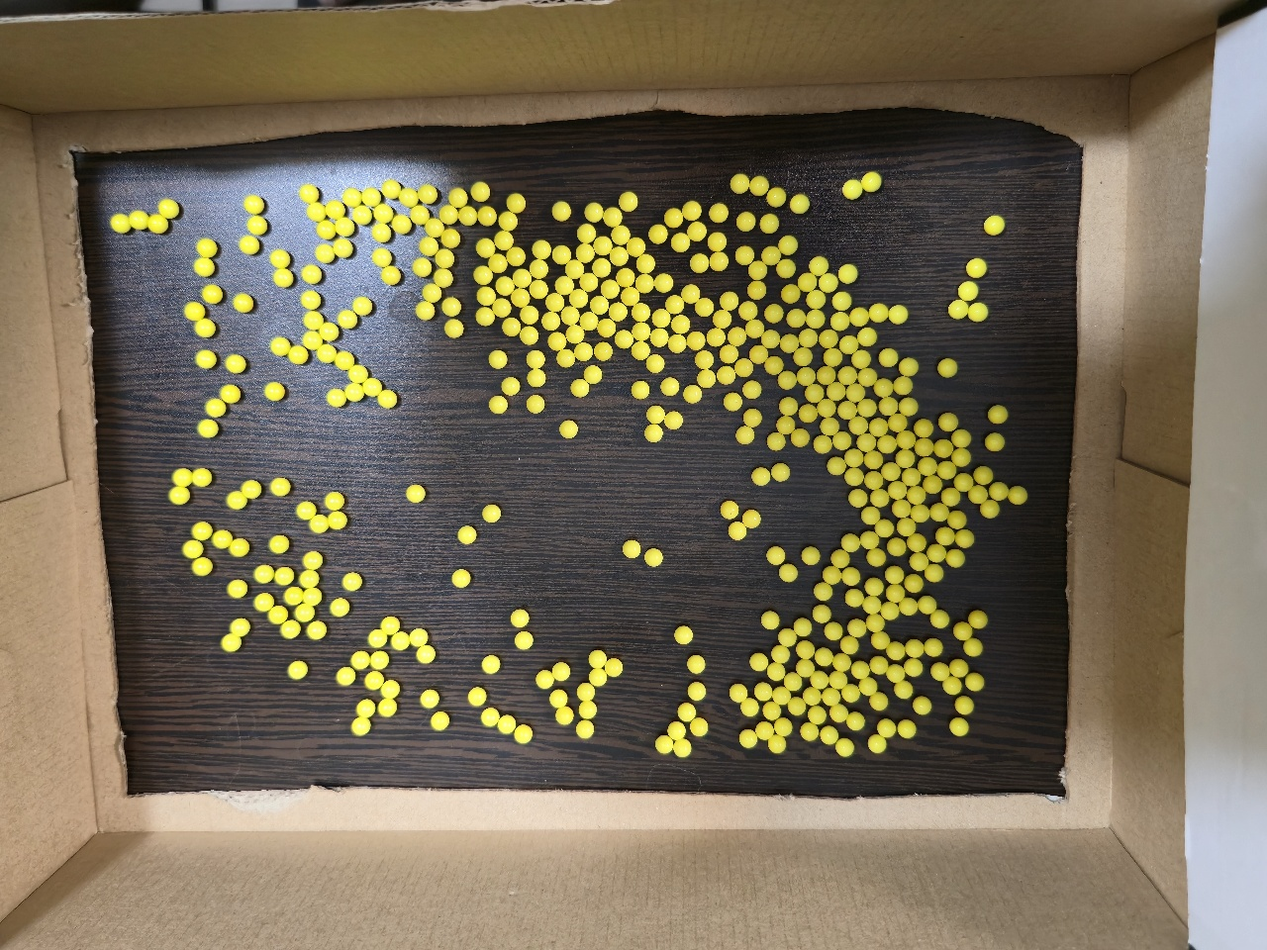yellow_bead: (162, 202, 175, 215), (226, 635, 238, 648), (384, 684, 396, 696), (308, 315, 320, 327), (962, 285, 974, 297), (251, 220, 263, 232), (248, 199, 260, 211), (865, 176, 877, 188), (307, 333, 318, 346), (200, 242, 213, 253), (988, 220, 1001, 231), (378, 208, 389, 221), (292, 665, 304, 676), (354, 655, 366, 666), (234, 622, 245, 634), (299, 607, 311, 618), (232, 584, 244, 595), (257, 569, 269, 580), (231, 495, 243, 506), (210, 403, 222, 414), (381, 394, 393, 405), (268, 386, 280, 397), (230, 358, 242, 369), (321, 348, 333, 359), (341, 314, 353, 325), (952, 304, 964, 315), (305, 295, 317, 306), (427, 287, 438, 299), (306, 269, 318, 280), (971, 262, 982, 274), (198, 262, 210, 273), (417, 261, 428, 273), (274, 253, 286, 264), (423, 241, 435, 252), (396, 219, 408, 230), (414, 210, 426, 221), (356, 210, 368, 221), (330, 204, 341, 216), (452, 192, 463, 204), (304, 188, 315, 200), (186, 544, 199, 554), (216, 534, 229, 544), (173, 491, 186, 501), (273, 482, 286, 492), (382, 702, 393, 713), (425, 694, 436, 705), (421, 649, 432, 660), (372, 633, 383, 644), (307, 592, 318, 603), (279, 571, 290, 582), (367, 382, 378, 393), (842, 370, 853, 381), (293, 349, 304, 360), (275, 341, 286, 352), (843, 339, 854, 350), (834, 316, 845, 327), (893, 309, 904, 320), (873, 308, 884, 319), (973, 307, 984, 318), (188, 306, 199, 317), (357, 301, 368, 312), (594, 300, 605, 311), (836, 296, 847, 307), (811, 294, 822, 305), (481, 291, 492, 302), (559, 280, 570, 291), (517, 273, 528, 284), (478, 270, 489, 281), (385, 270, 396, 281), (569, 264, 580, 275), (814, 261, 825, 272), (439, 253, 450, 264), (376, 252, 387, 263), (511, 251, 522, 262), (556, 249, 567, 260), (320, 248, 331, 259), (536, 244, 547, 255), (480, 242, 491, 253), (783, 239, 794, 250), (244, 239, 255, 250), (581, 228, 592, 239), (376, 227, 387, 238), (692, 226, 703, 237), (115, 218, 126, 229), (503, 216, 514, 227), (556, 206, 567, 217), (403, 192, 414, 203), (366, 192, 377, 203), (346, 192, 357, 203), (423, 189, 434, 200), (475, 186, 486, 197), (847, 184, 858, 195), (386, 184, 397, 195), (356, 720, 366, 732), (311, 625, 323, 635), (284, 624, 296, 634), (258, 598, 270, 608), (303, 574, 315, 584), (196, 562, 208, 572), (273, 539, 285, 549), (300, 506, 312, 516), (245, 485, 257, 495), (196, 473, 208, 483), (352, 369, 364, 379), (200, 354, 212, 364), (199, 323, 211, 333), (238, 297, 248, 309), (277, 273, 289, 283), (338, 242, 348, 254), (443, 209, 453, 221), (589, 207, 599, 219), (687, 205, 697, 217), (840, 742, 850, 753), (519, 729, 529, 740), (580, 724, 590, 735), (502, 719, 512, 730), (435, 715, 445, 726), (485, 712, 495, 723), (360, 704, 371, 714), (583, 703, 593, 714), (472, 692, 482, 703), (581, 688, 591, 699), (369, 676, 380, 686), (341, 671, 351, 682), (375, 655, 385, 666), (395, 635, 405, 646), (414, 632, 424, 643), (385, 620, 396, 630), (272, 610, 283, 620), (334, 603, 345, 613), (914, 557, 925, 567), (234, 543, 245, 553), (864, 535, 875, 545), (879, 523, 890, 533), (313, 519, 324, 529), (410, 489, 421, 499), (881, 439, 892, 449), (836, 435, 847, 445), (903, 402, 914, 412), (493, 400, 504, 410), (862, 372, 873, 382), (340, 355, 350, 366), (493, 354, 503, 365), (884, 352, 894, 363), (598, 346, 609, 356), (579, 346, 589, 357), (635, 345, 646, 355), (324, 327, 335, 337), (584, 316, 594, 327), (546, 316, 556, 327), (811, 314, 821, 325), (718, 314, 728, 325), (792, 313, 802, 324), (656, 313, 666, 324), (854, 312, 864, 323), (480, 312, 491, 322), (525, 310, 535, 321), (636, 307, 646, 318), (613, 307, 624, 317), (420, 306, 431, 316), (550, 297, 560, 308), (574, 293, 584, 304), (606, 284, 616, 295), (534, 284, 544, 295), (823, 278, 833, 289), (658, 278, 669, 288), (639, 278, 649, 289), (803, 277, 813, 288), (584, 277, 594, 288), (843, 268, 853, 279), (753, 265, 763, 276), (597, 262, 607, 273), (641, 258, 651, 269), (493, 258, 503, 269), (714, 256, 725, 266), (614, 251, 625, 261), (740, 250, 750, 261), (580, 247, 590, 258), (598, 240, 608, 251), (446, 233, 456, 244), (321, 225, 331, 236), (429, 223, 439, 234), (340, 222, 350, 233), (765, 219, 775, 230), (741, 217, 751, 228), (134, 215, 144, 226), (608, 212, 618, 223), (462, 211, 472, 222), (311, 207, 321, 218), (795, 199, 805, 210), (511, 198, 522, 208), (624, 196, 634, 207), (772, 192, 782, 203), (754, 180, 764, 191), (735, 178, 745, 189), (307, 556, 319, 565), (196, 527, 208, 536), (202, 424, 214, 433), (659, 740, 669, 750), (760, 726, 770, 736), (672, 726, 682, 736), (902, 724, 912, 734), (882, 723, 892, 733), (954, 722, 964, 732), (778, 722, 788, 732), (777, 691, 787, 701), (899, 685, 909, 695), (863, 682, 873, 692), (891, 669, 901, 679), (935, 667, 945, 677), (556, 667, 566, 677), (609, 663, 619, 673), (486, 660, 496, 670), (593, 654, 603, 664), (776, 649, 786, 659), (519, 635, 529, 645), (679, 630, 689, 640), (867, 601, 877, 611), (288, 592, 298, 602), (456, 574, 466, 584), (929, 568, 939, 578), (771, 551, 781, 561), (892, 542, 902, 552), (462, 530, 472, 540), (902, 522, 912, 532), (866, 511, 876, 521), (916, 509, 926, 519), (487, 509, 497, 519), (934, 508, 944, 518), (893, 485, 903, 495), (907, 472, 917, 482), (849, 472, 859, 482), (776, 467, 786, 477), (831, 461, 841, 471), (901, 454, 911, 464), (849, 453, 859, 463), (862, 437, 872, 447), (669, 416, 679, 426), (651, 410, 661, 420), (842, 406, 852, 416), (862, 403, 872, 413), (884, 402, 894, 412), (688, 389, 698, 399), (224, 389, 234, 399), (850, 388, 860, 398), (349, 388, 359, 398), (831, 387, 841, 397), (635, 385, 645, 395), (879, 383, 889, 393), (575, 383, 585, 393), (665, 382, 675, 392), (899, 381, 909, 391), (506, 381, 516, 391), (702, 374, 712, 384), (821, 371, 831, 381), (802, 371, 812, 381), (588, 370, 598, 380), (943, 363, 953, 373), (904, 362, 914, 372), (650, 359, 660, 369), (700, 355, 710, 365), (856, 354, 866, 364), (561, 353, 571, 363), (828, 352, 838, 362), (799, 352, 809, 362), (785, 338, 795, 348), (672, 338, 682, 348), (766, 334, 776, 344), (620, 334, 630, 344), (804, 333, 814, 343), (862, 332, 872, 342), (732, 332, 742, 342), (507, 322, 517, 332), (676, 320, 686, 330), (565, 311, 575, 321), (700, 303, 710, 313), (497, 303, 507, 313), (516, 293, 526, 303), (686, 289, 696, 299), (500, 281, 510, 291), (438, 273, 448, 283), (621, 272, 631, 282), (534, 264, 544, 274), (695, 258, 705, 268), (676, 238, 686, 248), (713, 237, 723, 247), (499, 236, 509, 246), (616, 230, 626, 240), (653, 229, 663, 239), (714, 208, 724, 218), (678, 742, 687, 753), (563, 425, 574, 434), (811, 388, 820, 399), (531, 354, 540, 365), (524, 331, 535, 340), (448, 324, 459, 333), (725, 296, 734, 307), (626, 291, 635, 302), (782, 263, 791, 274), (767, 250, 776, 261), (632, 241, 641, 252), (873, 739, 882, 749), (773, 739, 782, 749), (744, 734, 753, 744), (825, 730, 834, 740), (806, 726, 815, 736), (851, 716, 860, 726), (560, 711, 569, 721), (834, 709, 844, 718), (682, 708, 692, 717), (793, 702, 802, 712), (960, 701, 969, 711), (875, 697, 884, 707), (554, 694, 563, 704), (826, 693, 836, 702), (734, 689, 743, 699), (692, 688, 702, 697), (759, 687, 768, 697), (947, 682, 957, 691), (970, 678, 980, 687), (833, 676, 843, 685), (816, 675, 825, 685), (540, 675, 549, 685), (593, 673, 603, 682), (954, 664, 964, 673), (909, 663, 919, 672), (874, 661, 884, 670), (692, 660, 701, 670), (754, 658, 764, 667), (819, 652, 828, 662), (892, 646, 901, 656), (802, 645, 811, 655), (910, 644, 920, 653), (968, 643, 978, 652), (876, 636, 886, 645), (783, 633, 793, 642), (829, 626, 838, 636), (853, 623, 862, 633), (799, 622, 808, 632), (871, 618, 880, 628), (515, 614, 525, 623), (904, 603, 914, 612), (891, 590, 901, 599), (819, 587, 828, 597), (349, 577, 358, 587), (846, 572, 856, 581), (890, 571, 900, 580), (784, 568, 793, 578), (836, 554, 845, 564), (807, 551, 816, 561), (931, 549, 941, 558), (846, 538, 855, 548), (941, 531, 950, 541), (898, 504, 907, 514), (875, 494, 885, 503), (853, 494, 863, 503), (946, 493, 956, 502), (913, 491, 922, 501), (960, 478, 969, 488), (869, 476, 879, 485), (176, 473, 186, 482), (757, 472, 766, 482), (886, 467, 896, 476), (924, 462, 933, 472), (870, 455, 879, 465), (819, 439, 828, 449), (772, 436, 781, 446), (796, 433, 806, 442), (649, 428, 658, 438), (874, 423, 884, 432), (825, 422, 835, 431), (854, 421, 864, 430), (748, 413, 757, 423), (993, 411, 1003, 420), (804, 409, 814, 418), (822, 403, 831, 413), (785, 402, 794, 412), (531, 399, 540, 409), (729, 397, 738, 407), (747, 385, 757, 394), (783, 375, 792, 385), (532, 373, 541, 383), (722, 370, 731, 380), (739, 363, 749, 372), (755, 349, 764, 359), (725, 349, 734, 359), (553, 336, 562, 346), (692, 335, 701, 345), (712, 333, 722, 342), (654, 333, 664, 342), (570, 330, 580, 339), (636, 327, 646, 336), (750, 324, 760, 333), (602, 323, 612, 332), (770, 309, 779, 319), (744, 306, 753, 316), (787, 289, 796, 299), (333, 496, 341, 507), (825, 333, 833, 344), (446, 302, 454, 313), (695, 723, 704, 732), (813, 711, 822, 720), (768, 706, 777, 715), (745, 703, 754, 712), (918, 702, 927, 711), (808, 693, 817, 702), (846, 689, 855, 698), (789, 678, 798, 687), (772, 668, 781, 677), (856, 666, 865, 675), (802, 664, 811, 673), (929, 643, 938, 652), (845, 641, 854, 650), (766, 616, 775, 625), (935, 615, 944, 624), (886, 607, 895, 616), (923, 601, 932, 610), (850, 594, 859, 603), (870, 583, 879, 592), (828, 571, 837, 580), (951, 554, 960, 563), (872, 553, 881, 562), (649, 553, 658, 562), (733, 526, 742, 535), (333, 516, 342, 525), (986, 505, 995, 514), (974, 491, 983, 500), (995, 488, 1004, 497), (920, 443, 929, 452), (741, 430, 750, 439), (782, 421, 791, 430), (944, 418, 953, 427), (894, 418, 903, 427), (770, 361, 779, 370), (753, 286, 762, 295), (155, 221, 164, 230), (628, 544, 636, 554), (943, 465, 951, 475), (990, 438, 1000, 446), (902, 435, 910, 445), (334, 393, 342, 403), (672, 213, 679, 224), (838, 658, 846, 667), (818, 610, 827, 618), (961, 534, 969, 543), (726, 506, 734, 515), (1014, 492, 1023, 500), (957, 454, 966, 462), (958, 434, 966, 443), (482, 214, 491, 222), (670, 300, 677, 310), (208, 288, 218, 295), (913, 540, 921, 548), (748, 515, 756, 523), (929, 482, 937, 490), (981, 472, 988, 480), (974, 618, 983, 624), (953, 518, 962, 524), (958, 631, 968, 636), (910, 583, 919, 588), (941, 446, 947, 453), (921, 427, 928, 433), (486, 211, 488, 213)
